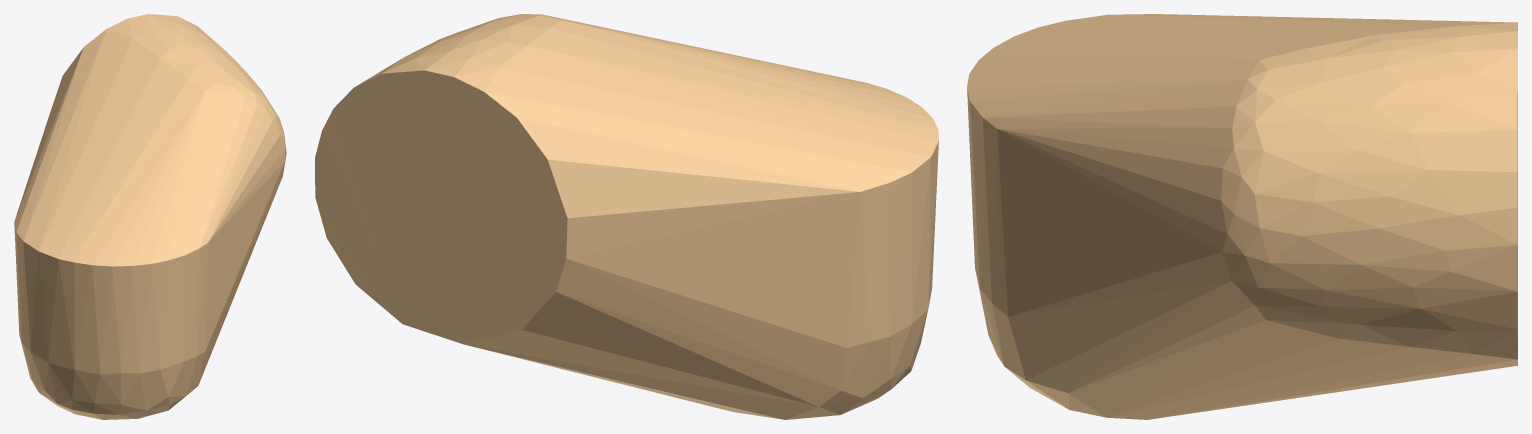
Rendered from dualpanda_Panda_rightArm_link3_respondable_coll_1.dae.
The picture shows the model from 3 angles, left to right: view 1: azimuth 30°, elevation 25°; view 2: azimuth 150°, elevation 25°; view 3: azimuth 270°, elevation 25°; orthographic projection. The views are drawn at different scales.
Visible parts, largest first — view 1: node; view 2: node; view 3: node.
Boxes of the visible parts, box(x1,y1,x2,y2) form: node: box(14, 14, 286, 419); node: box(315, 14, 938, 419); node: box(967, 14, 1517, 419).
Bounding box in the file's own units: 0.1923 × 0.1661 × 0.1761.
